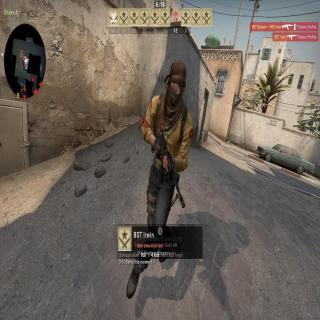T-Body: (126, 61, 192, 301)
T-Head: (165, 61, 188, 111)
